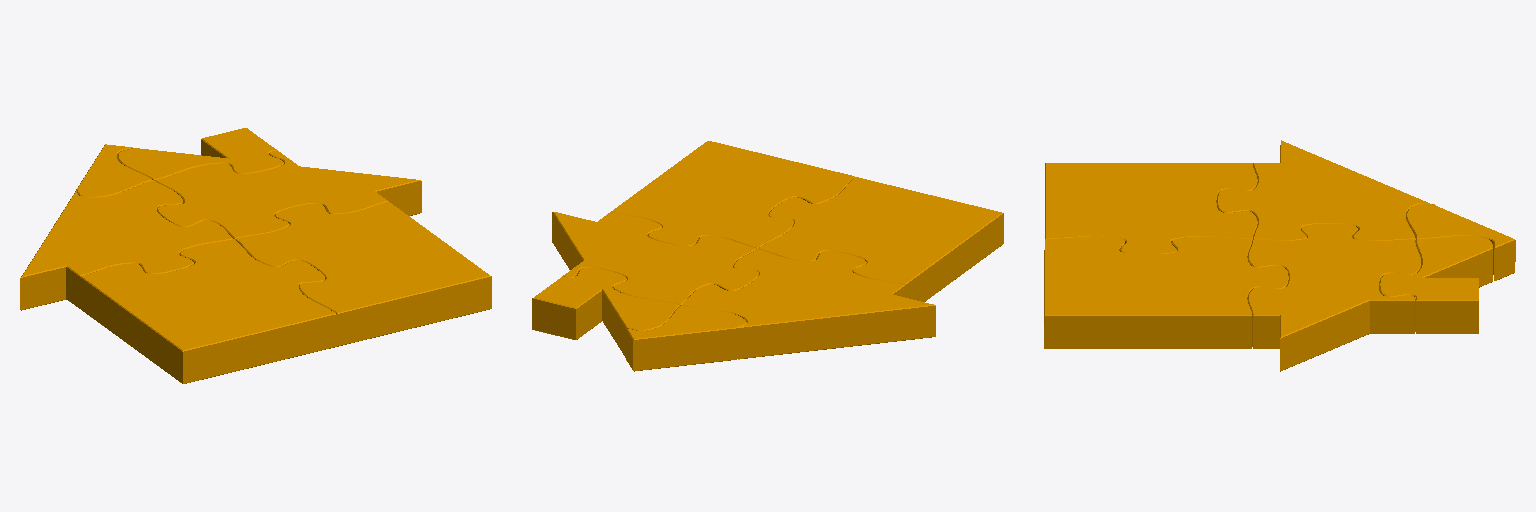
URDF robot description (none):
<robot name="none">
       <link name="none">
           <visual>
               <origin rpy="1.57 0 0" xyz="0 0 0" />
               <geometry>
                   <mesh filename="housePuzzle.obj" />
               </geometry>
           </visual>
          <collision>
              <geometry>
                  <box size="0.996874 0.081256 1.000000" />
              </geometry>
          </collision>

          <inertial>
            <mass value="0.0" />
            <inertia ixx="0.0" ixy="0.0" ixz="0.0" iyy="0.0" iyz="0.0" izz="0.0" />
          </inertial>
      </link>
  </robot>

--- What the picture shows (computed from the rendered views, not written in the file) ---
Views: 3 orthographic renders of the robot side by side, from view 1: azimuth 30°, elevation 25°; view 2: azimuth 150°, elevation 25°; view 3: azimuth 270°, elevation 25°.
Model none with 1 links and 0 joints (none), rooted at none, posed all joints at 0.
Visible links, largest first — view 1: none; view 2: none; view 3: none.
Link boxes in pixels (<box>): none: <box>20,128,491,383</box>; none: <box>532,141,1003,371</box>; none: <box>1044,140,1515,371</box>.
Bounding box of the posed robot: 0.9969 × 1 × 0.0818 m (x, y, z).
Meshes: 1 distinct files referenced, 1 mesh visuals loaded (1 OBJ).